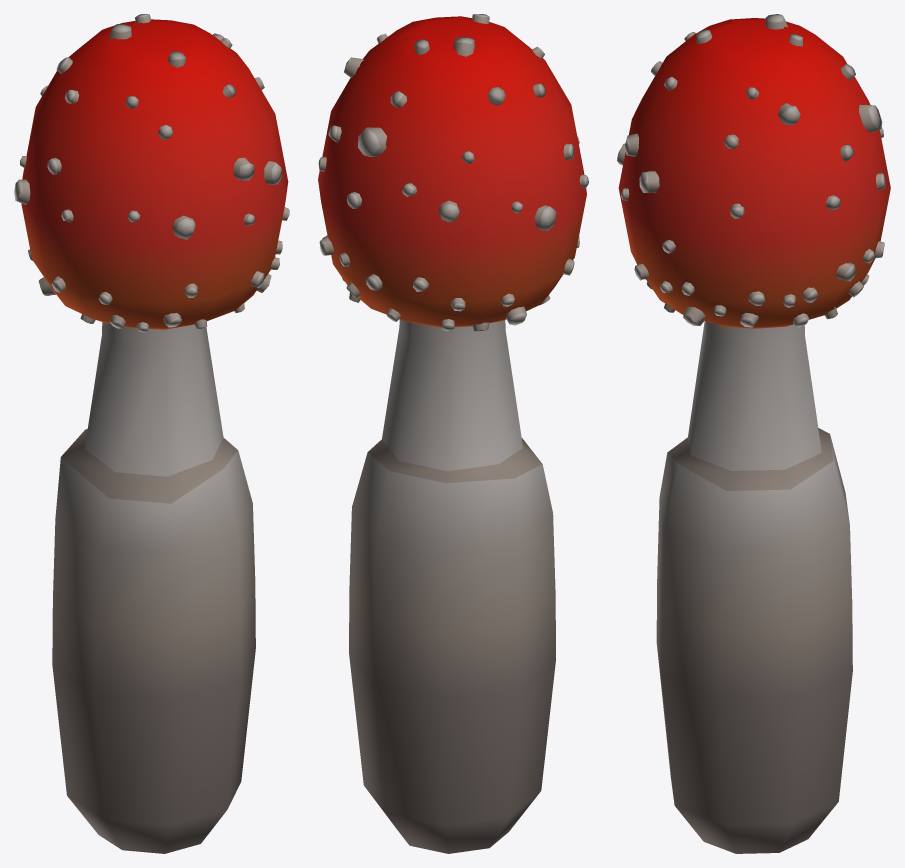
File: plants-mushrooms-toadstool_v2.fbx
3 renders of one model, left to right at view 1: azimuth 30°, elevation 25°; view 2: azimuth 150°, elevation 25°; view 3: azimuth 270°, elevation 25°, orthographic.
Visible parts, largest first — view 1: Toadstool_v2; view 2: Toadstool_v2; view 3: Toadstool_v2.
Part boxes in pixels (x1=…): Toadstool_v2: x1=14, y1=14, x2=289, y2=853; Toadstool_v2: x1=318, y1=14, x2=588, y2=853; Toadstool_v2: x1=617, y1=14, x2=890, y2=853.
Bounding box in the file's own units: 0.061 × 0.2 × 0.0609.
